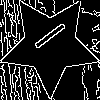I: (25, 19, 68, 57)
